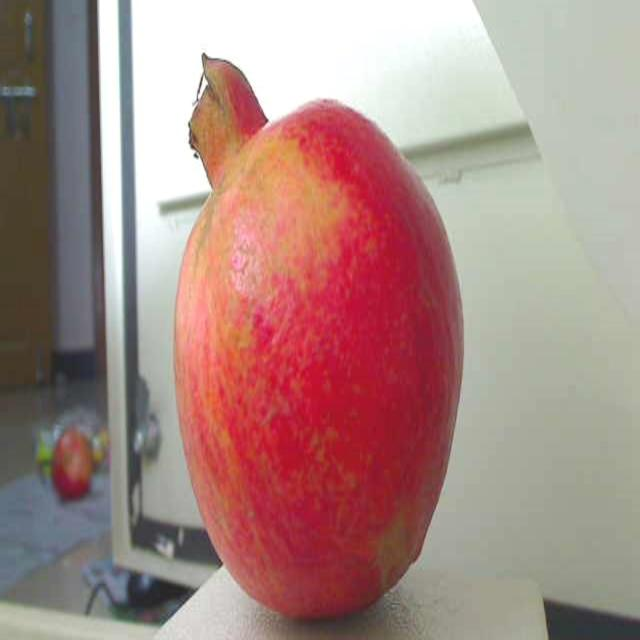pomegranate: (162, 29, 478, 640)
